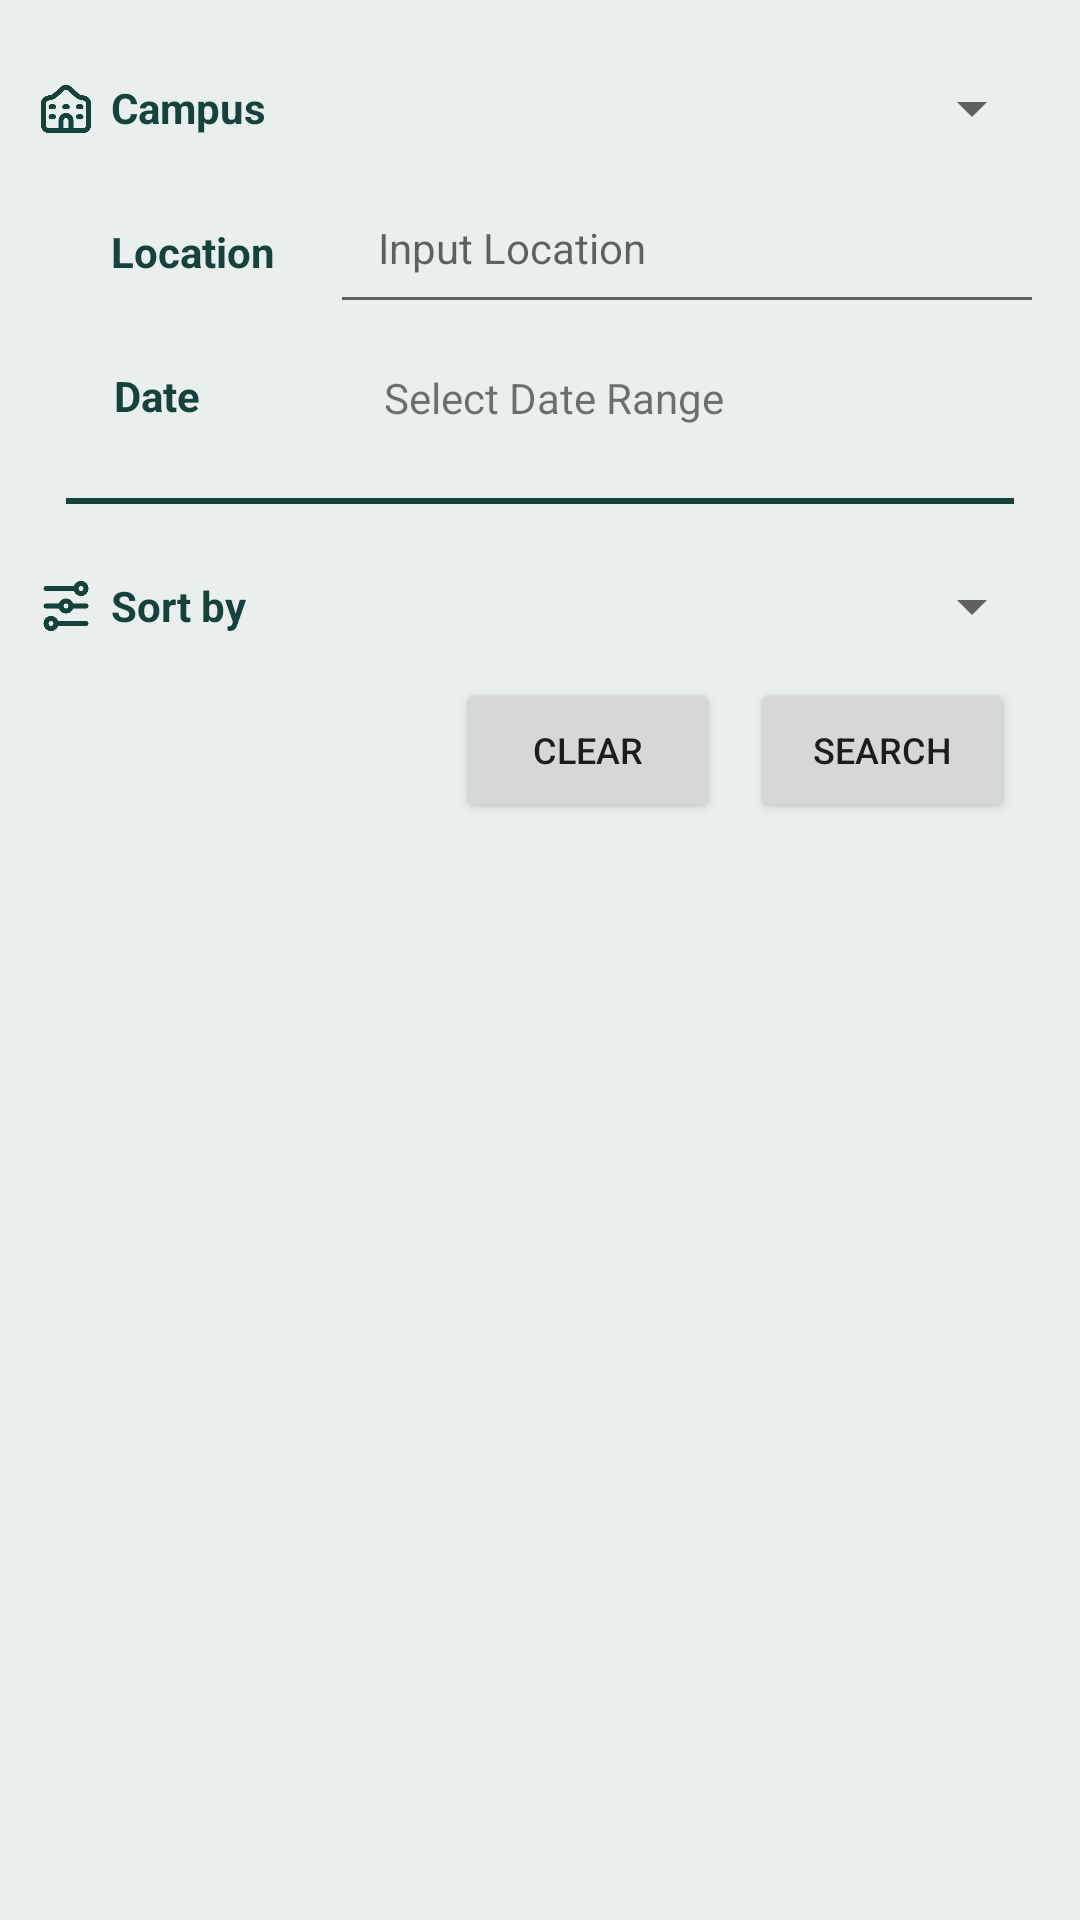

Icons on this 1080px x 1920px Android screen, each with the point to tap as point (x, y):
filter: point (66, 606)
school: point (66, 109)
